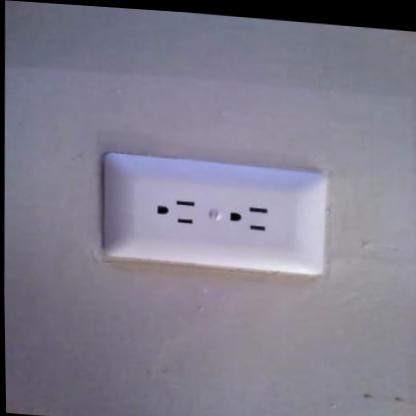OUTLET: (100, 150, 326, 276)
